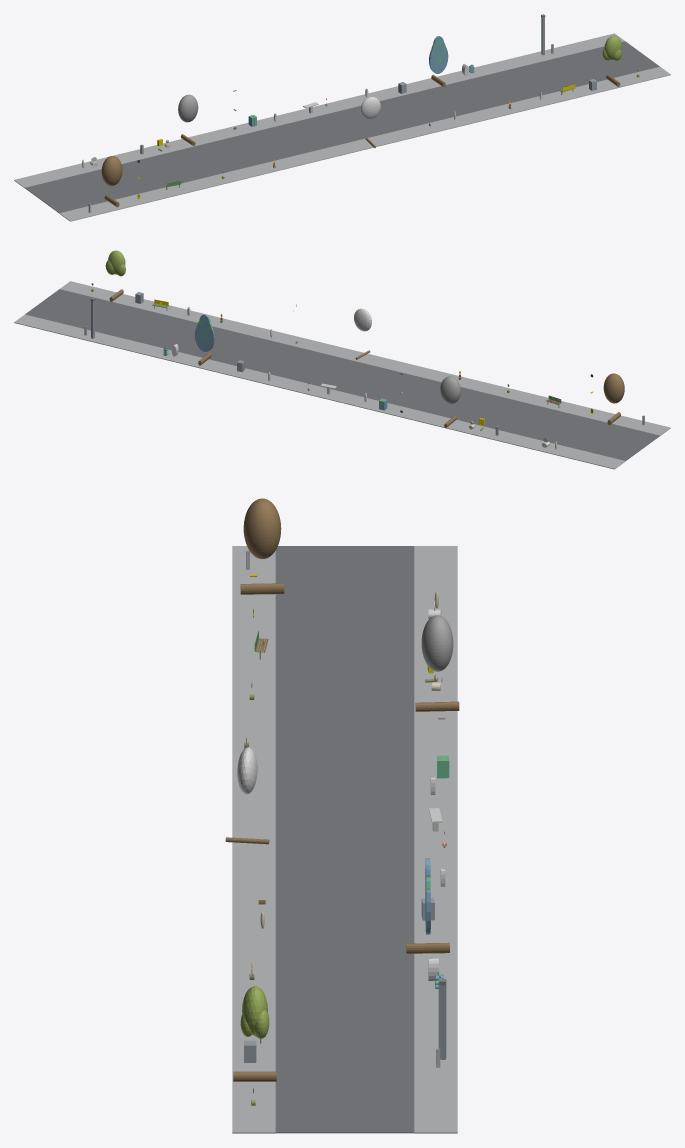
The picture shows the model from 3 angles, top to bottom: view 1: azimuth 30°, elevation 25°; view 2: azimuth 150°, elevation 25°; view 3: azimuth 270°, elevation 25°; orthographic projection. The views are drawn at different scales.
Parts seen in each view (by area): view 1: road_slab, sidewalk_left, sidewalk_right, inst_0015, inst_0012, inst_0013, inst_0016, inst_0014; view 2: road_slab, sidewalk_right, sidewalk_left, inst_0015, inst_0012, inst_0013, inst_0016, inst_0014; view 3: road_slab, sidewalk_left, sidewalk_right, inst_0012, inst_0013, inst_0016, inst_0014, inst_0015.
Boxes of the visible parts, left/top/right/bottom form: road_slab: left=25, top=41, right=659, bottom=213; sidewalk_left: left=59, top=66, right=670, bottom=221; sidewalk_right: left=14, top=33, right=624, bottom=188; inst_0015: left=429, top=36, right=448, bottom=87; inst_0012: left=101, top=156, right=122, bottom=207; inst_0013: left=178, top=94, right=198, bottom=145; inst_0016: left=602, top=35, right=621, bottom=86; inst_0014: left=360, top=96, right=380, bottom=148; road_slab: left=25, top=289, right=659, bottom=461; sidewalk_right: left=14, top=314, right=625, bottom=469; sidewalk_left: left=60, top=281, right=670, bottom=435; inst_0015: left=195, top=314, right=214, bottom=365; inst_0012: left=603, top=373, right=624, bottom=425; inst_0013: left=440, top=376, right=460, bottom=427; inst_0016: left=105, top=250, right=125, bottom=301; inst_0014: left=354, top=308, right=371, bottom=359; road_slab: left=275, top=546, right=414, bottom=1133; sidewalk_left: left=232, top=546, right=275, bottom=1133; sidewalk_right: left=414, top=546, right=457, bottom=1133; inst_0012: left=240, top=498, right=284, bottom=594; inst_0013: left=415, top=615, right=459, bottom=711; inst_0016: left=233, top=986, right=276, bottom=1081; inst_0014: left=225, top=747, right=269, bottom=844; inst_0015: left=406, top=858, right=449, bottom=953.
Bounding box in the file's own units: 80 × 6.08 × 13.47.
